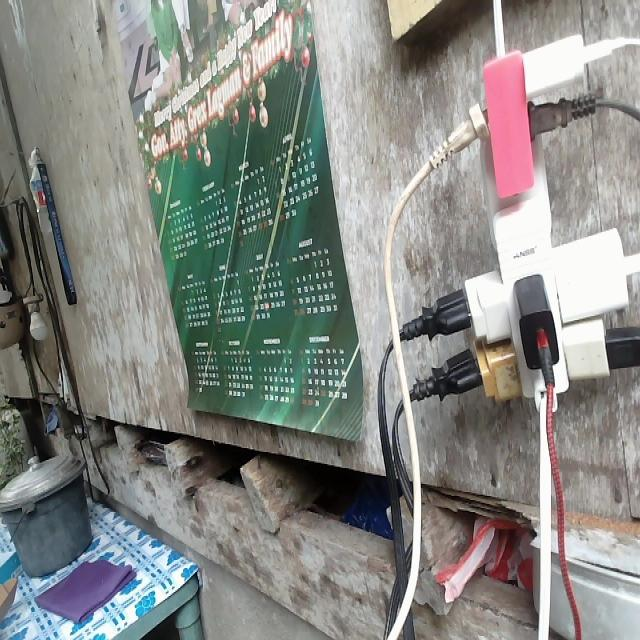-: (427, 31, 636, 412)
